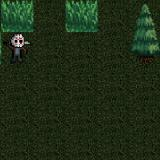Jason: (2, 32, 32, 65)
Obstacle: (129, 32, 160, 65)
Slow: (65, 0, 98, 32), (2, 0, 34, 32)
